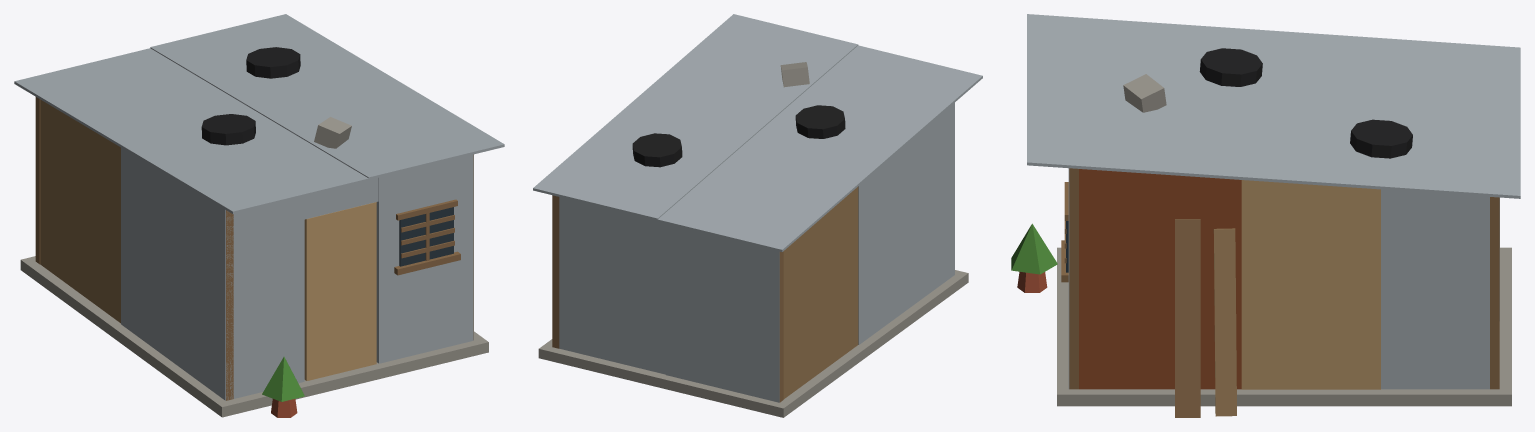
Rendered from BAY_I_TinShack_K.glb.
3 views of the same model, side by side, from view 1: azimuth 30°, elevation 25°; view 2: azimuth 150°, elevation 25°; view 3: azimuth 270°, elevation 25° (orthographic). The views are drawn at different scales.
Parts seen in each view (by area): view 1: BAY_I_TinShack_K; view 2: BAY_I_TinShack_K; view 3: BAY_I_TinShack_K.
Part boxes in pixels (x1,y1,x2,y2): BAY_I_TinShack_K: [14, 14, 504, 417]; BAY_I_TinShack_K: [533, 14, 982, 417]; BAY_I_TinShack_K: [1011, 14, 1520, 417].
Size of the model in its own units: 3.57 by 2.68 by 4.74.
1 material, 1 textured.
